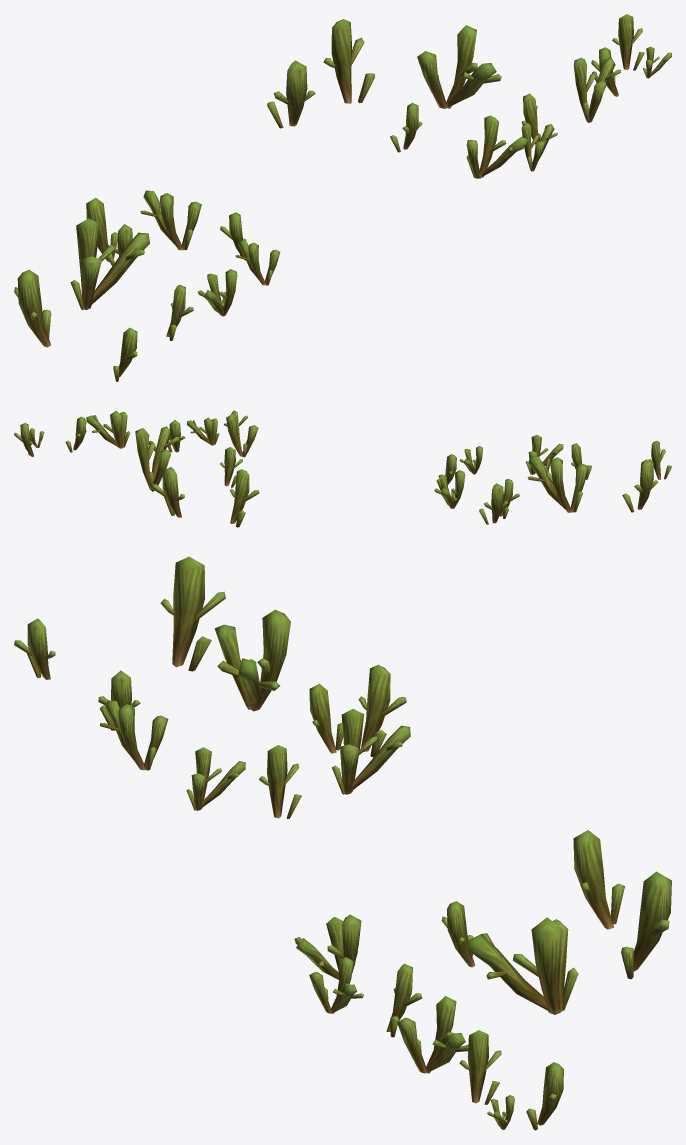
Rendered from xianrenzhang05.fbx.
3 renders of one model, top to bottom at view 1: azimuth 30°, elevation 25°; view 2: azimuth 150°, elevation 25°; view 3: azimuth 270°, elevation 25°, orthographic. The views are drawn at different scales.
Parts seen in each view (by area): view 1: xianrenzhang05; view 2: xianrenzhang05; view 3: xianrenzhang05.
Boxes of the visible parts, x1,y1,x2,y2 form: xianrenzhang05: (14,14,671,381); xianrenzhang05: (14,410,671,527); xianrenzhang05: (14,556,671,1130).
Size of the model in its own units: 3057 by 313 by 1726.
Materials: 1 (1 with a texture image).
